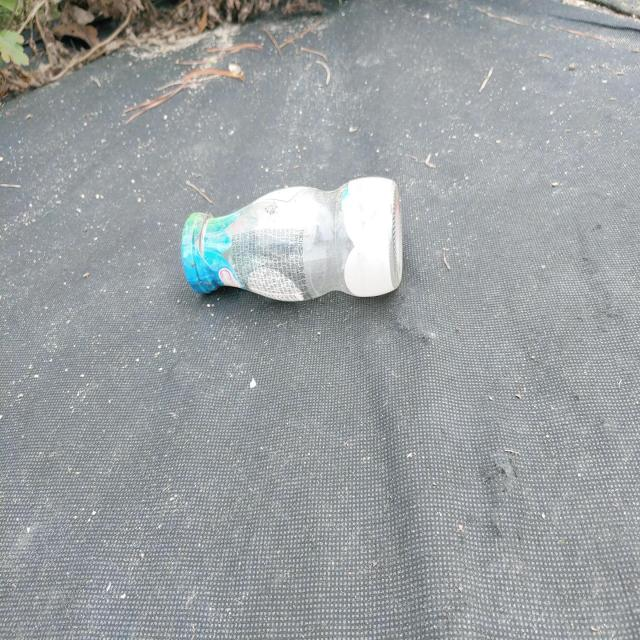glass: (181, 176, 403, 301)
